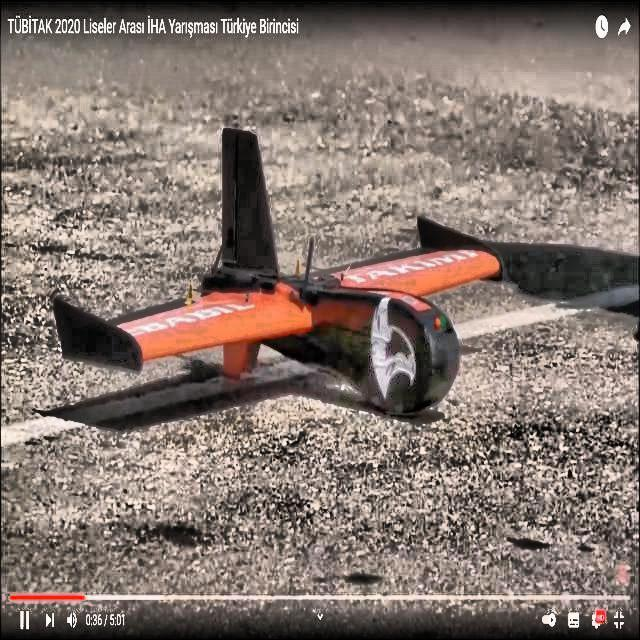iha: (34, 123, 518, 424)
